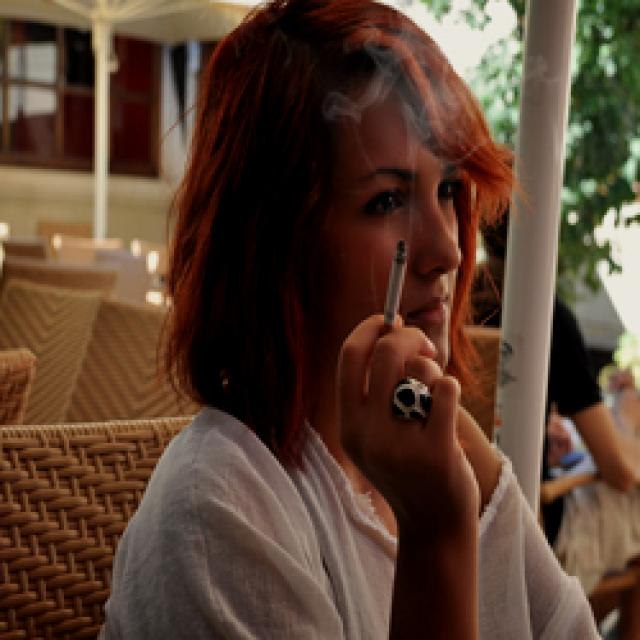Smooking: (362, 241, 419, 322)
